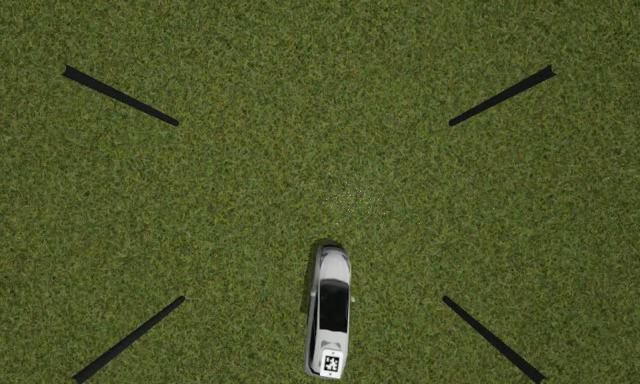Car: (306, 244, 352, 378)
Landing Pad: (321, 348, 344, 380)
